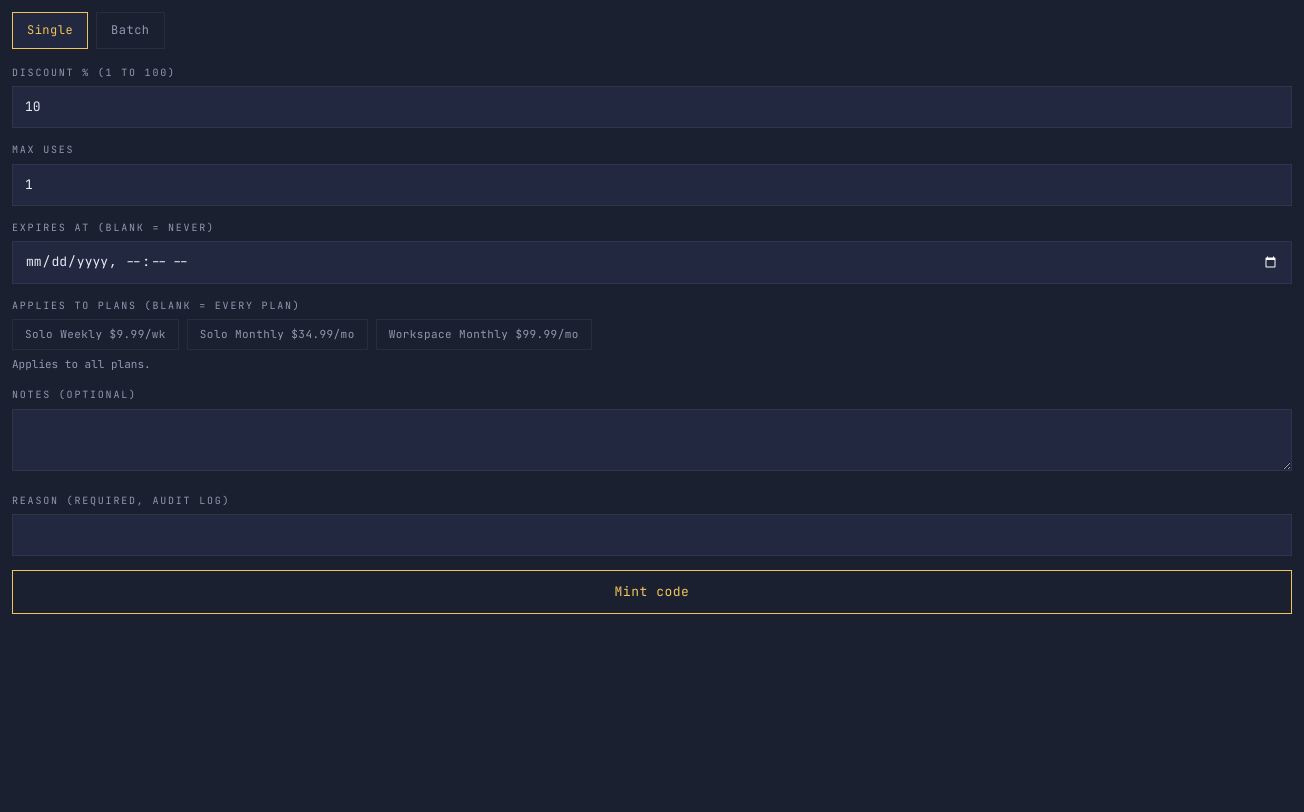
MintDiscountCodeForm › toggles applies_to chips and submits the picked SKUs
Click the button with test id "applies-to-solo-monthly".
click(277, 334)  # box [187,319,368,350]
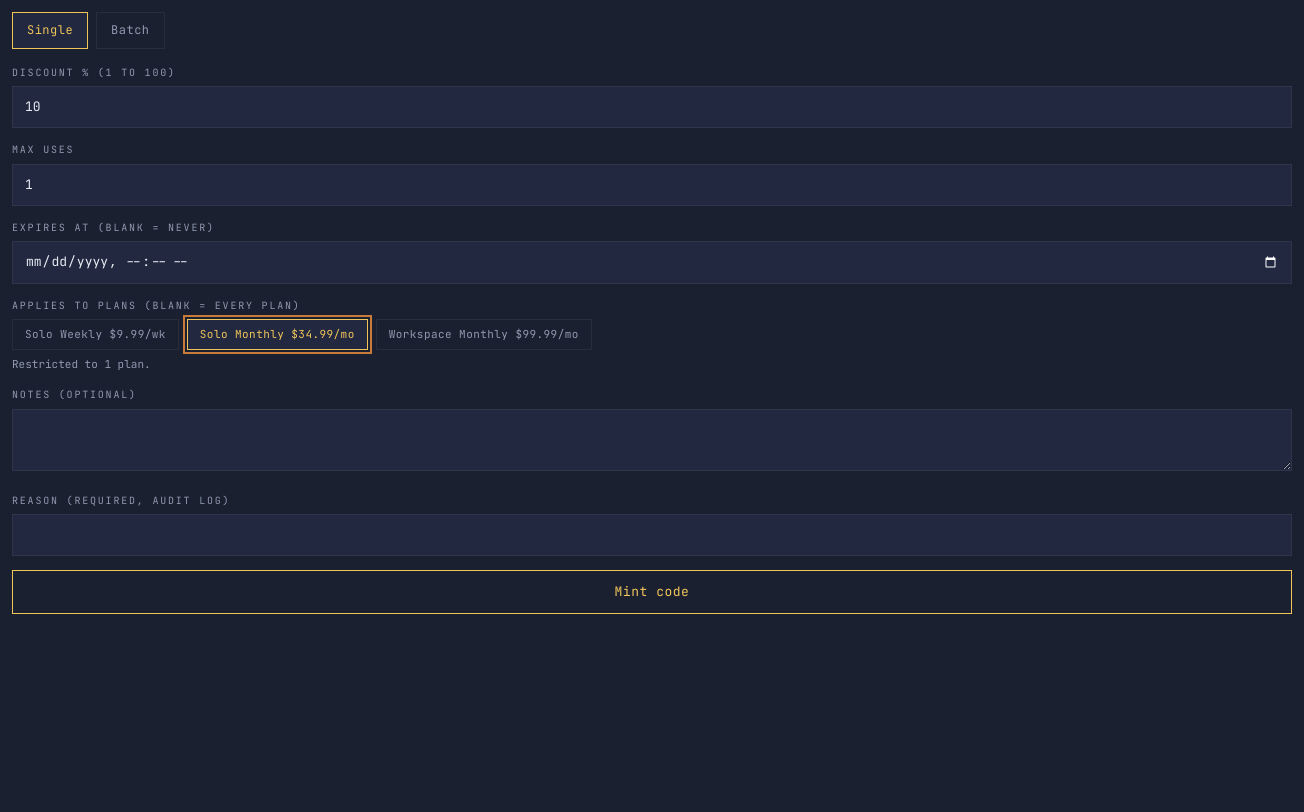
Click the button with test id "applies-to-workspace-monthly".
click(484, 334)  # box [376,319,592,350]
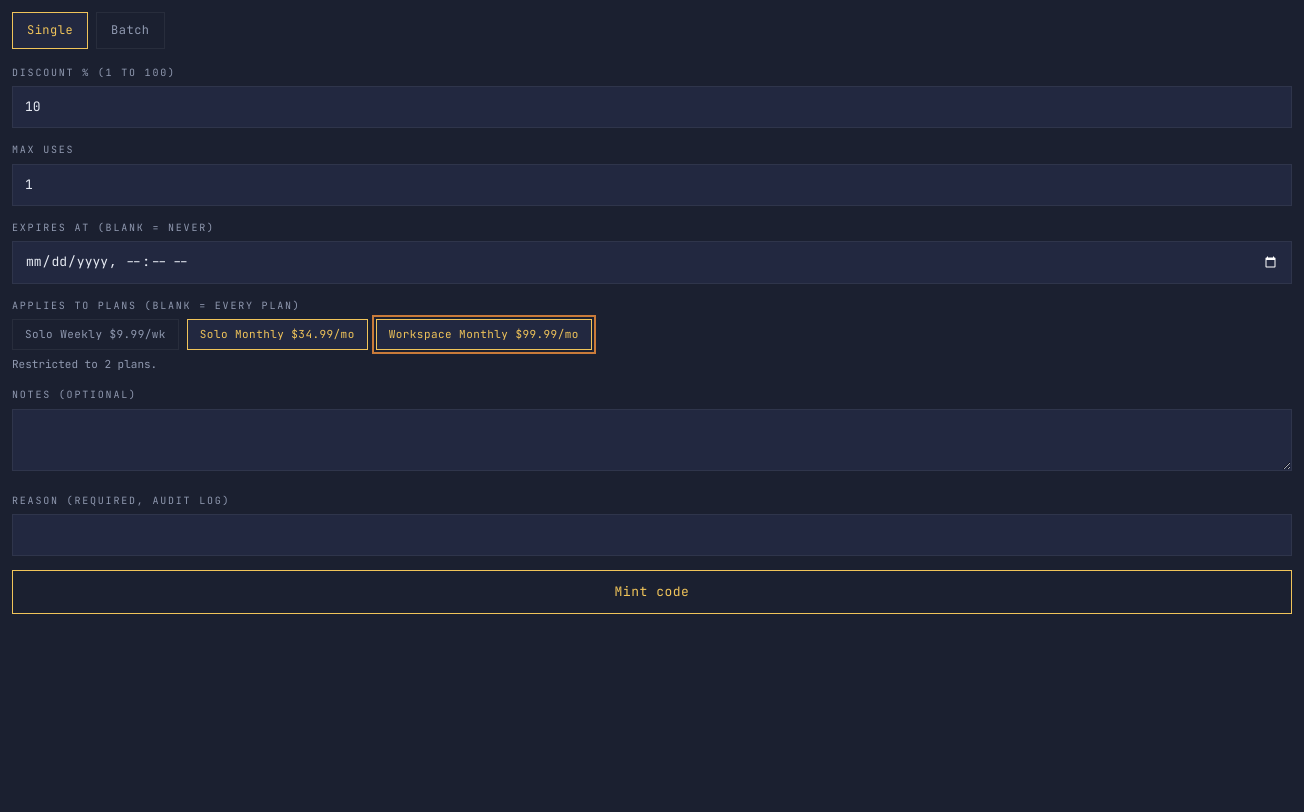
Check: the text "Restricted to 2 plans." is shown, box [12,357,157,371]
Type "launch" into the field labelled "Reason (required, audit log)".
click(652, 535); type("launch")  # box [12,514,1292,556]
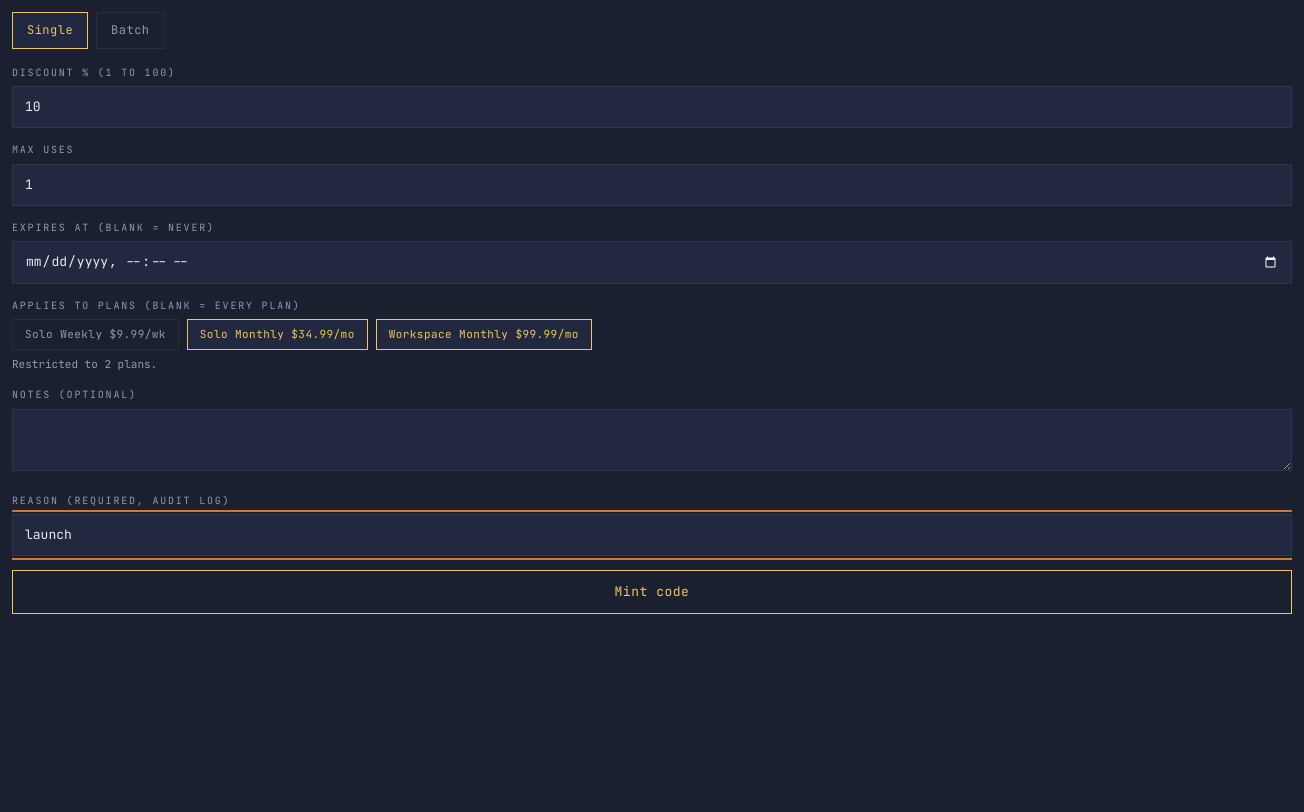
Click the button "Mint code".
click(652, 592)  # box [12,570,1292,614]
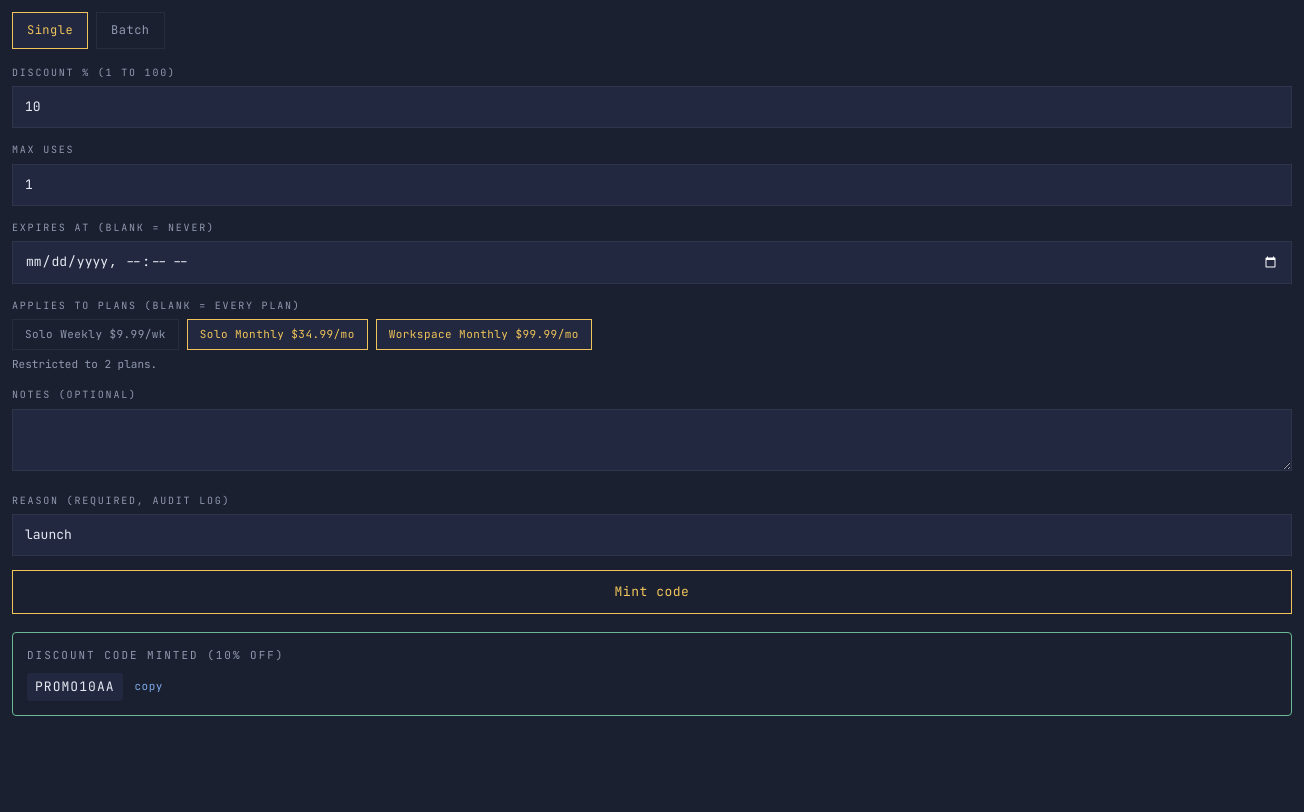
Check: the text "PROMO10AA" is shown, box [27,672,123,701]
Check: the text "Discount code minted (10% off)" is shown, box [27,648,284,662]
